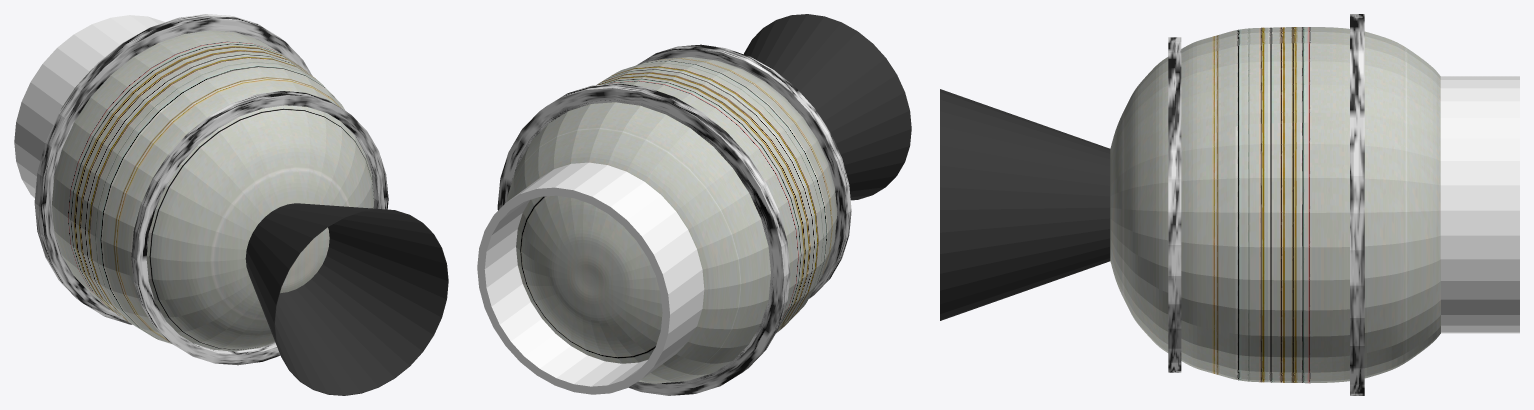
The model's file is star48b.obj.
The picture shows the model from 3 angles, left to right: view 1: azimuth 30°, elevation 25°; view 2: azimuth 150°, elevation 25°; view 3: azimuth 270°, elevation 25°; orthographic projection. The views are drawn at different scales.
Parts seen in each view (by area): view 1: group0, group4, group2, group3, group1; view 2: group0, group1, group4, group3, group2; view 3: group0, group4, group1, group3, group2.
Part boxes in pixels (<box>): group0: <box>52,30,374,351</box>; group4: <box>245,203,448,395</box>; group2: <box>131,91,388,365</box>; group3: <box>34,14,312,324</box>; group1: <box>14,15,164,198</box>; group0: <box>506,57,837,383</box>; group1: <box>477,162,704,394</box>; group4: <box>744,14,911,200</box>; group3: <box>497,83,790,395</box>; group2: <box>637,44,851,298</box>; group0: <box>1110,27,1440,383</box>; group4: <box>940,89,1110,320</box>; group1: <box>1440,76,1519,333</box>; group3: <box>1350,14,1364,395</box>; group2: <box>1168,37,1181,372</box>.
Bounding box in the file's own units: 1.13 × 1.13 × 1.71.
Materials: 4 (2 with a texture image).
